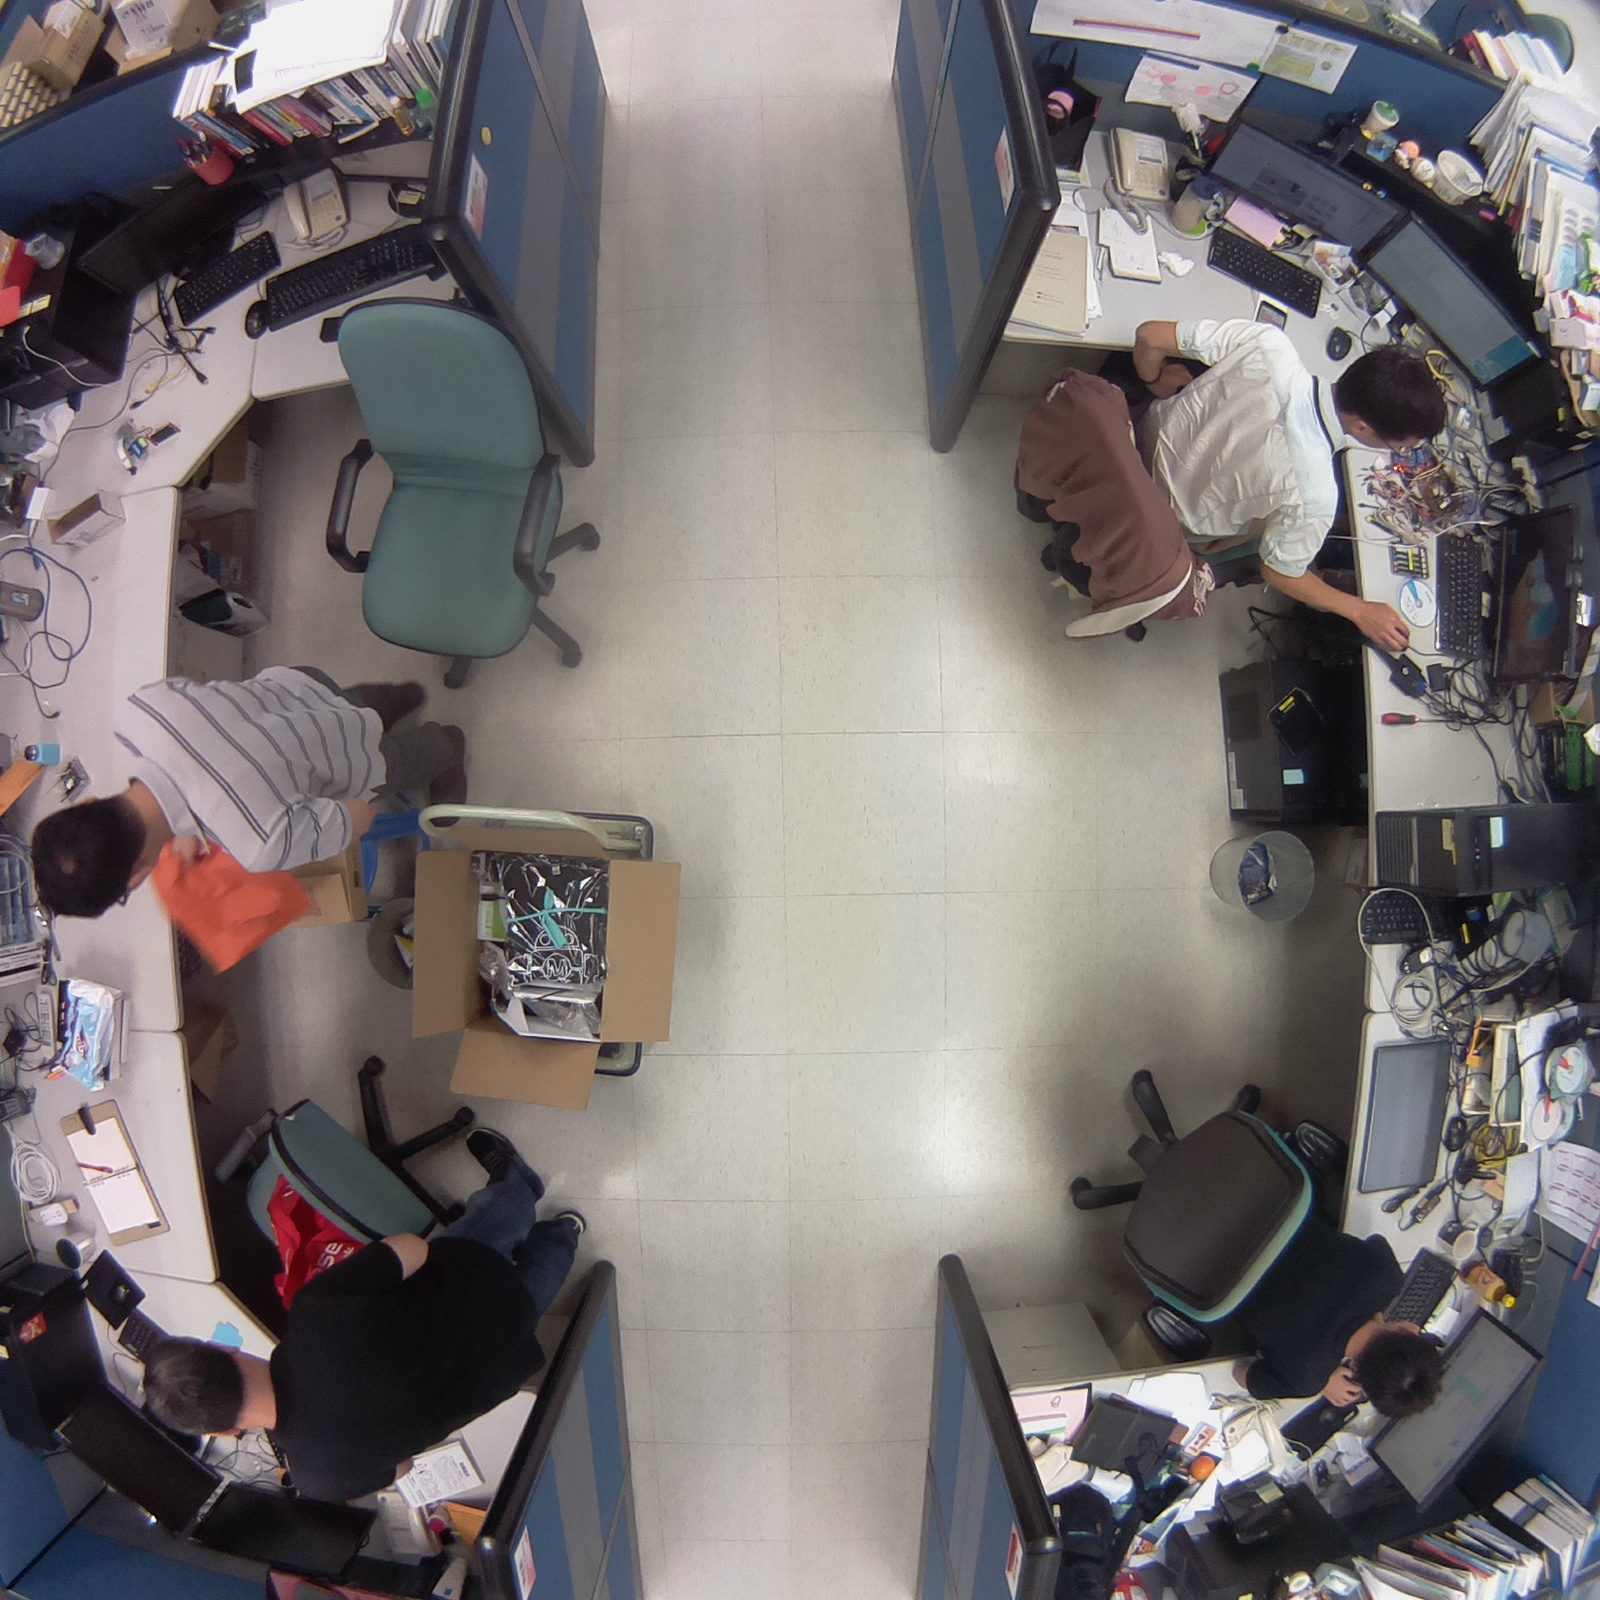chair: (301, 283, 617, 706), (201, 1040, 491, 1309)
head: (25, 786, 152, 927), (133, 1333, 260, 1447), (1335, 345, 1454, 455), (1356, 1318, 1450, 1425)
sitting: (994, 307, 1463, 670), (1055, 1042, 1450, 1431)
standing: (126, 1121, 593, 1503), (17, 655, 478, 932)
